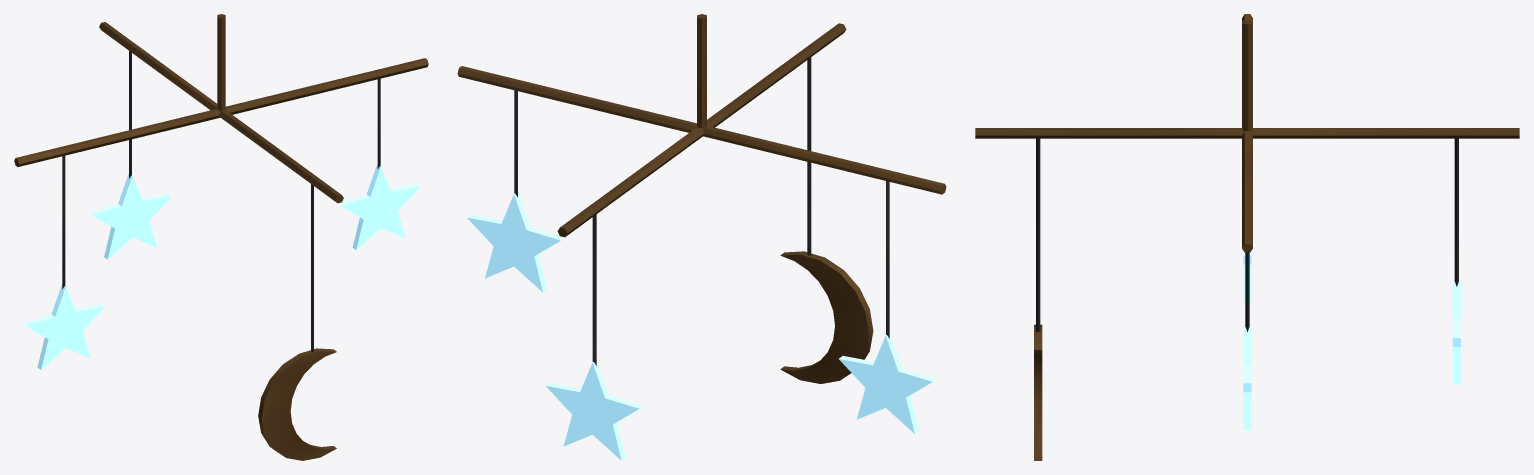
Rendered from Furn_Ceil_StarMobile.fbx.
3 renders of one model, left to right at view 1: azimuth 30°, elevation 25°; view 2: azimuth 150°, elevation 25°; view 3: azimuth 270°, elevation 25°, orthographic. The views are drawn at different scales.
Visible parts, largest first — view 1: Furn_Ceil_StarMobile; view 2: Furn_Ceil_StarMobile; view 3: Furn_Ceil_StarMobile.
Boxes of the visible parts, x1,y1,x2,y2 form: Furn_Ceil_StarMobile: [14, 14, 428, 460]; Furn_Ceil_StarMobile: [457, 14, 946, 460]; Furn_Ceil_StarMobile: [975, 14, 1519, 460].
Size of the model in its own units: 0.8 by 0.7 by 0.8.
Materials: 3 (2 with a texture image).
